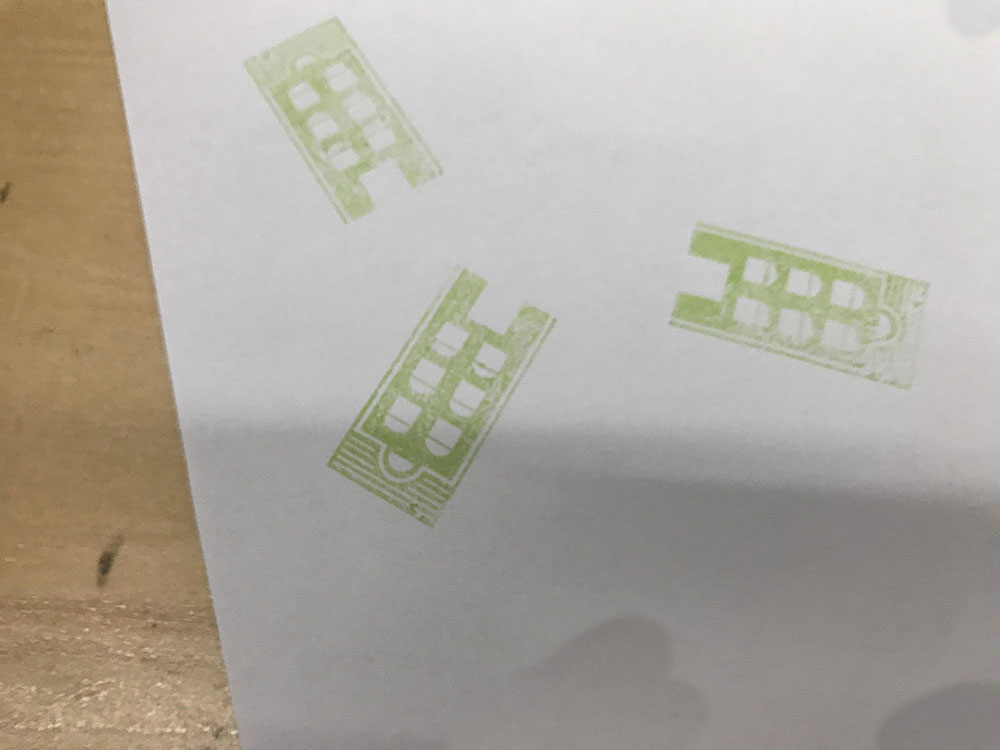build: (311, 249, 566, 555), (219, 7, 481, 241), (644, 213, 954, 408)
